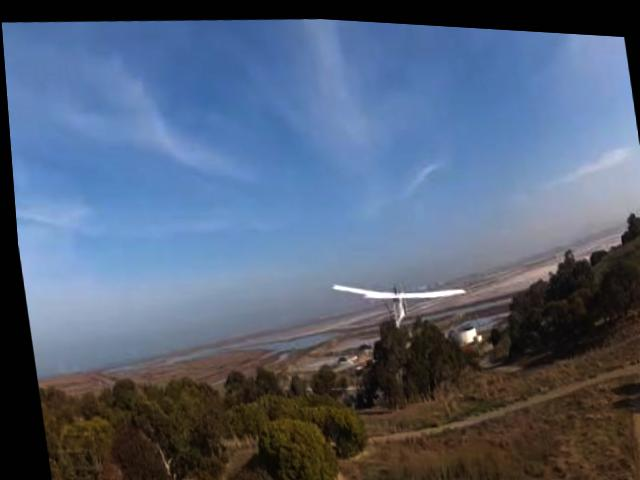uav: (321, 253, 476, 342)
